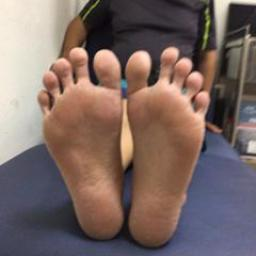Plantar View -Both Feet-: (31, 40, 220, 248)
